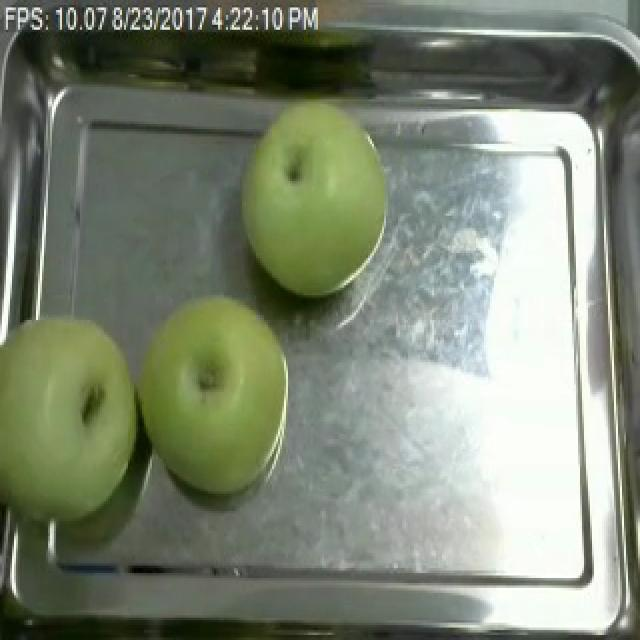50-_ripeness: (0, 295, 141, 542), (142, 295, 296, 501), (253, 99, 394, 294)
